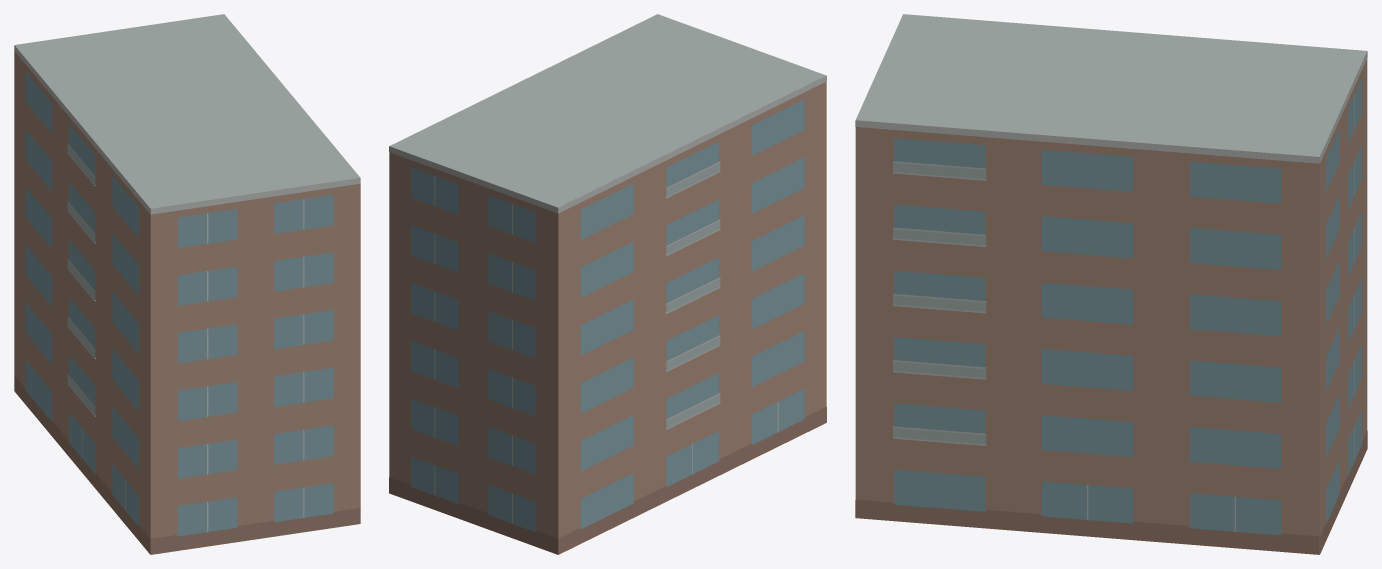
The model's file is survey-upis-32536294.glb.
The picture shows the model from 3 angles, left to right: view 1: azimuth 30°, elevation 25°; view 2: azimuth 150°, elevation 25°; view 3: azimuth 270°, elevation 25°; orthographic projection. The views are drawn at different scales.
Parts seen in each view (by area): view 1: survey-upis-32536294.tmp; view 2: survey-upis-32536294.tmp; view 3: survey-upis-32536294.tmp.
Part boxes in pixels (box(x1,y1,x2,y2)): survey-upis-32536294.tmp: box(14, 14, 360, 554); survey-upis-32536294.tmp: box(389, 14, 826, 554); survey-upis-32536294.tmp: box(855, 14, 1367, 554).
Size of the model in its own units: 11.19 by 14.5 by 16.92.
